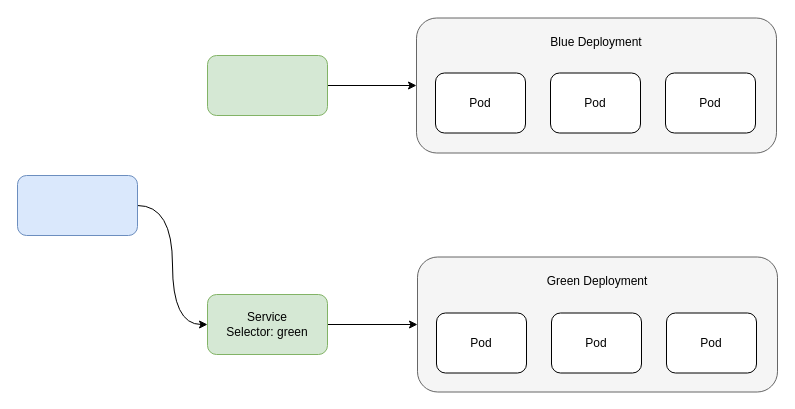
Some shapes in this 795 by 409 pixel diagram are drawn without their labels. Here are the shapes that lost their labels. From the top down, the box of each, then its label:
(206, 54, 328, 116): Service Selector: blue
(16, 174, 138, 236): Ingress-Nginx
